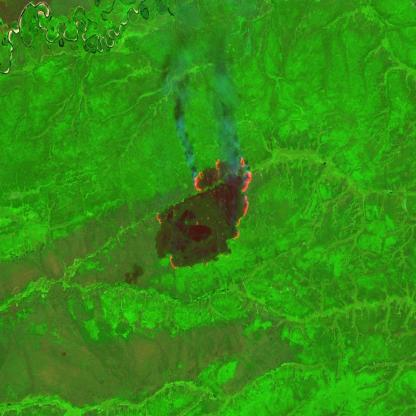fire: (193, 154, 252, 242), (168, 250, 178, 272), (153, 210, 165, 228)
